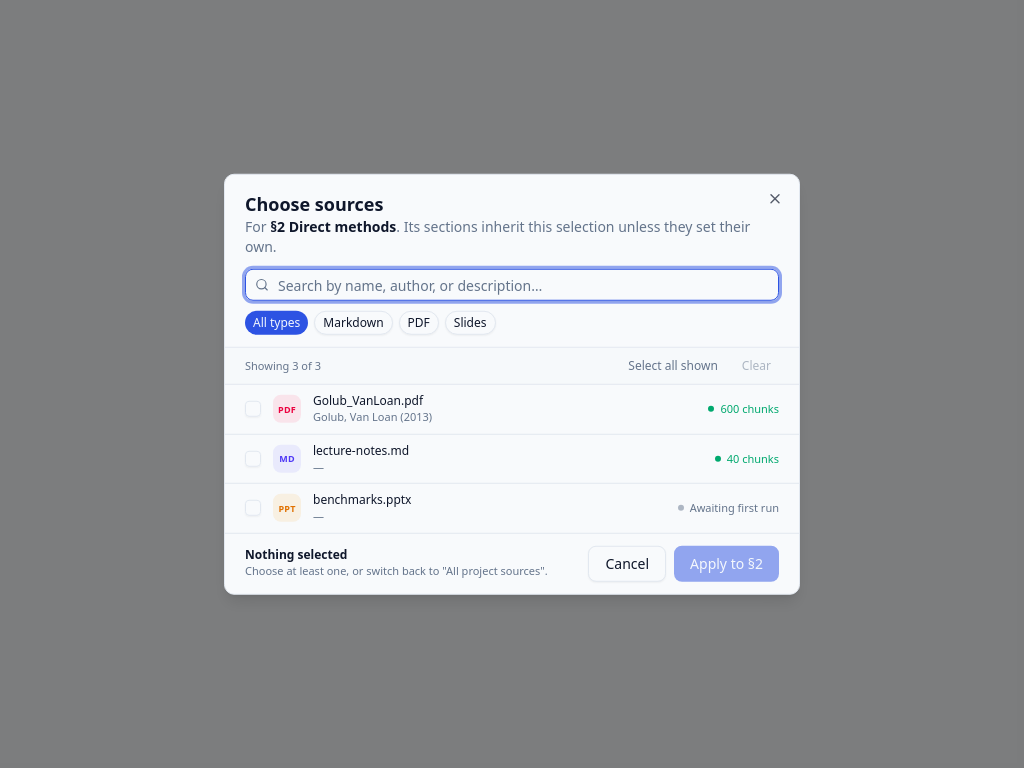
Test case: SourceScopePicker › filters by search text (including authors) and by type chip
Check: the text "Showing 3 of 3" is shown, box [245,358,321,374]
Type "van loan" into the field named "Search sources" at x=512, y=285, box [245,269,779,301]
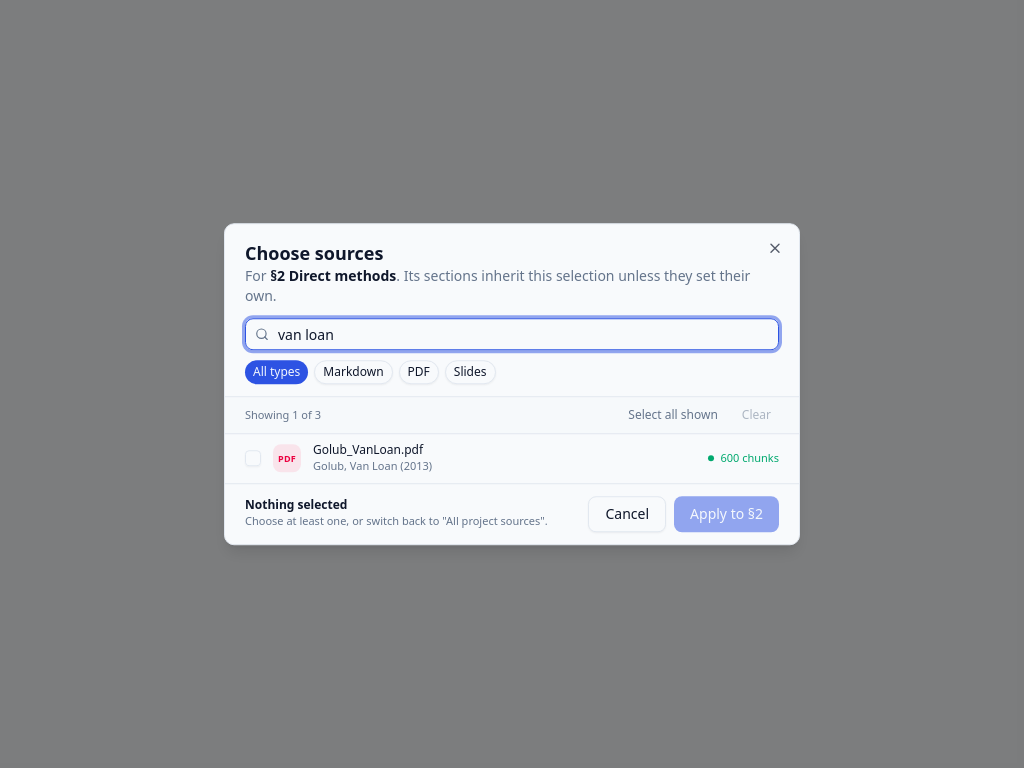
Check: the text "Golub_VanLoan.pdf" is shown, box [313,441,423,458]
Check: the text "lecture-notes.md" is gone
Clear the field named "Search sources" at x=512, y=334, box [245,318,779,350]
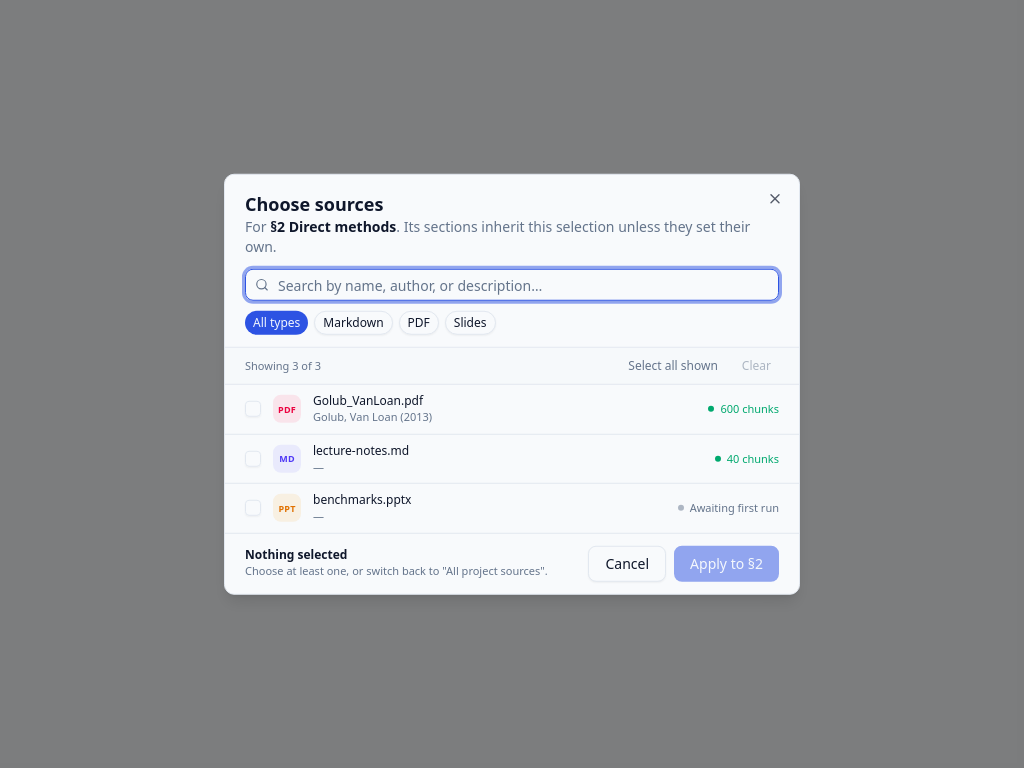
Click the button "Markdown" at x=353, y=323, box [314,311,392,335]
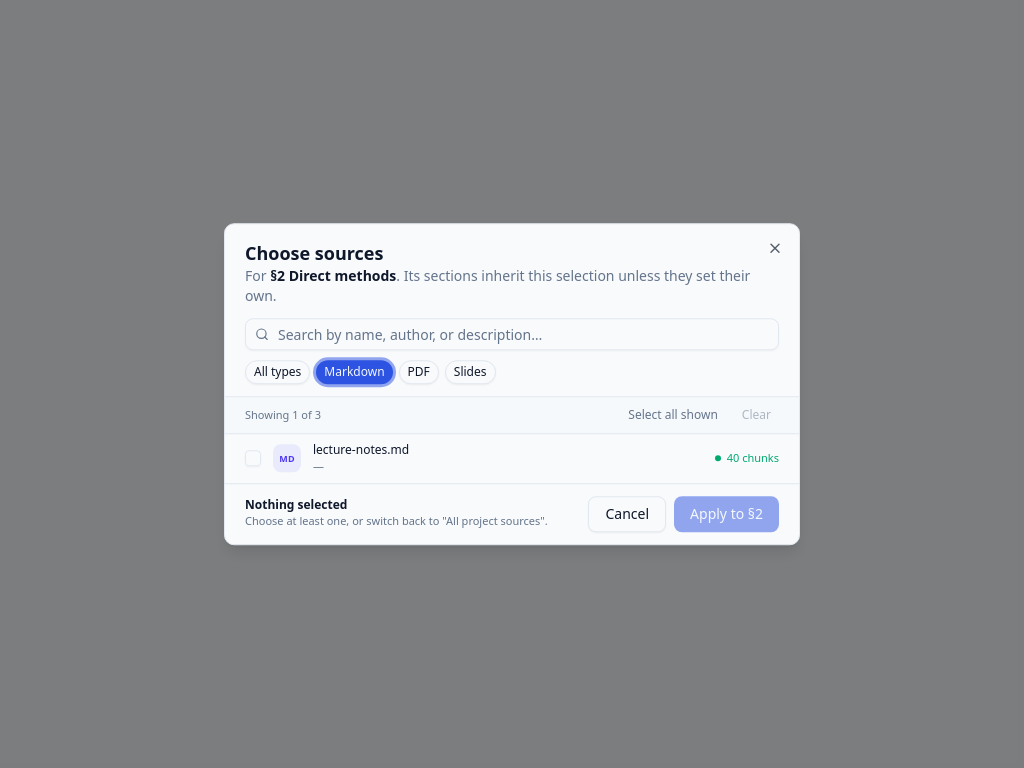
Check: the text "lecture-notes.md" is shown, box [313,441,409,458]
Check: the text "Showing 1 of 3" is shown, box [245,407,321,424]
